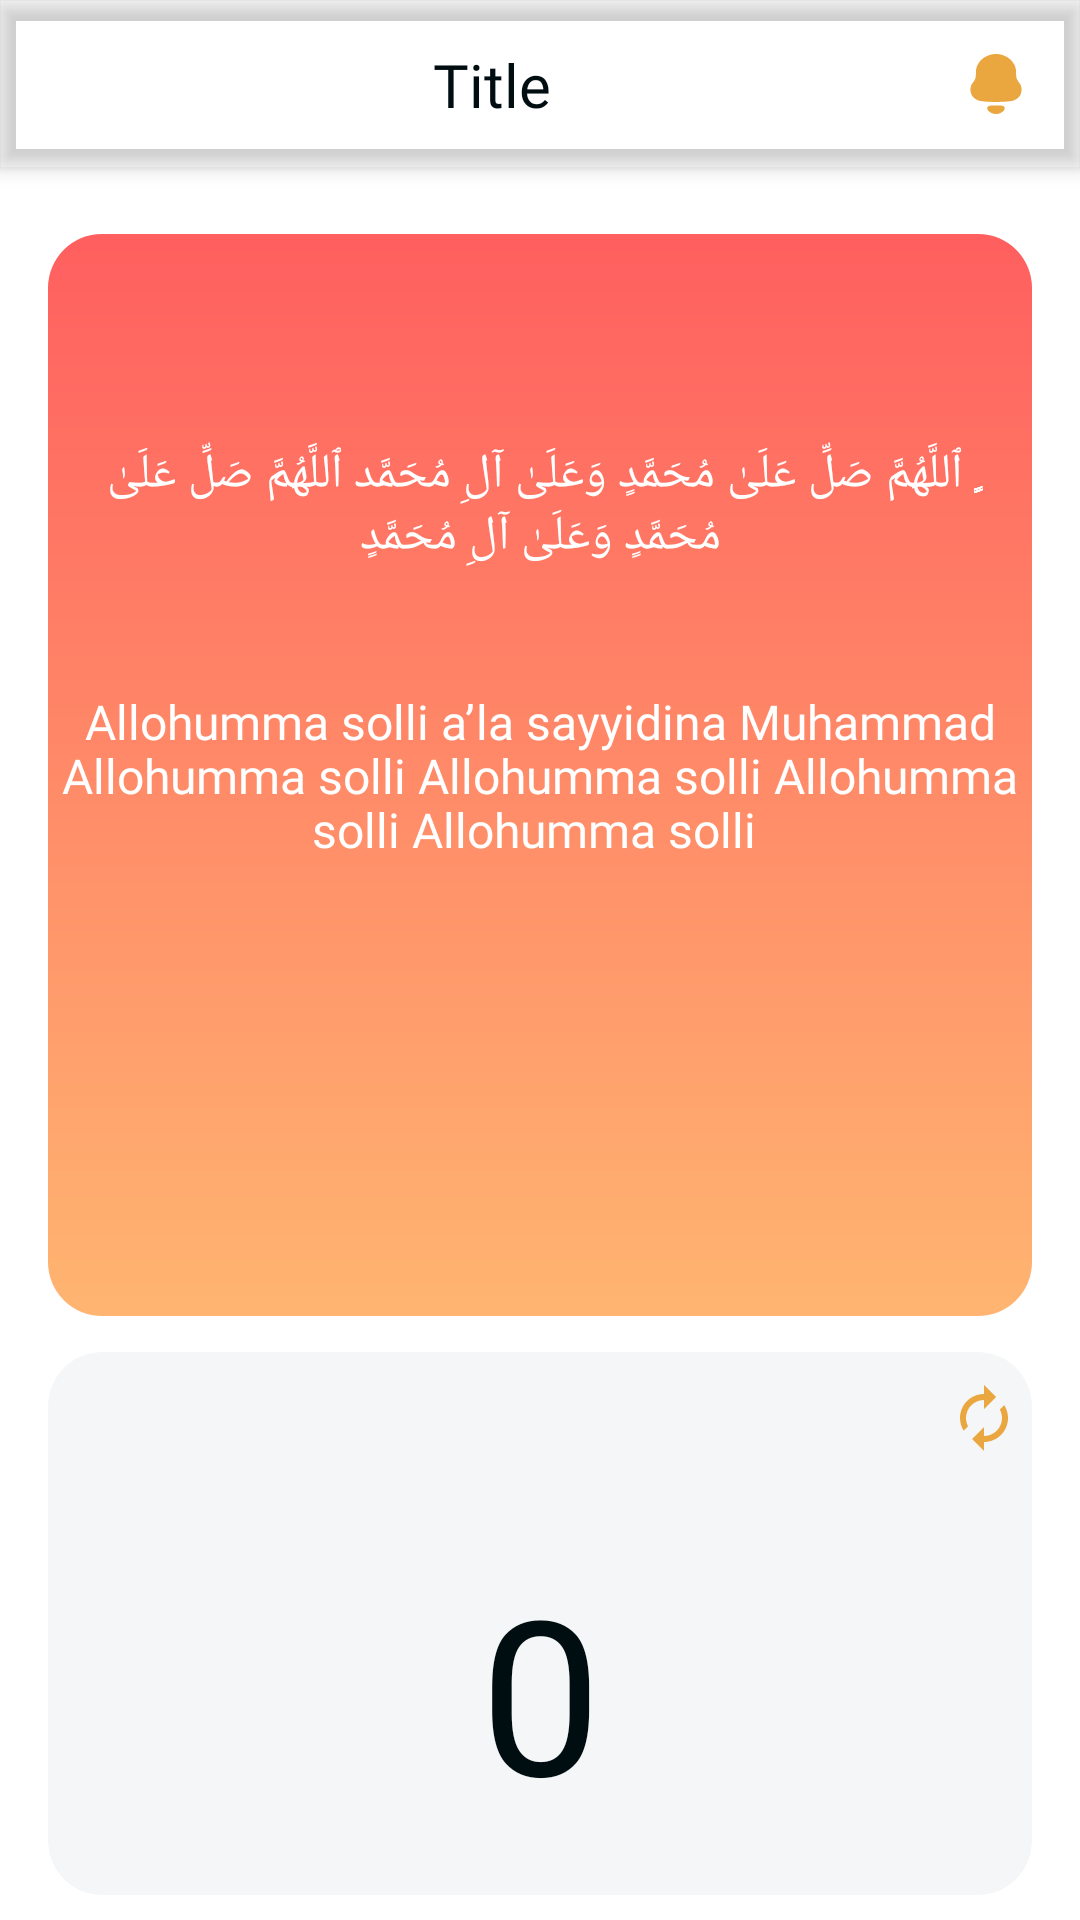

Screen size 1080w x 1920h. Icon name, then its center in pixels as (x=x, y=y):
reset: (x=984, y=1418)
